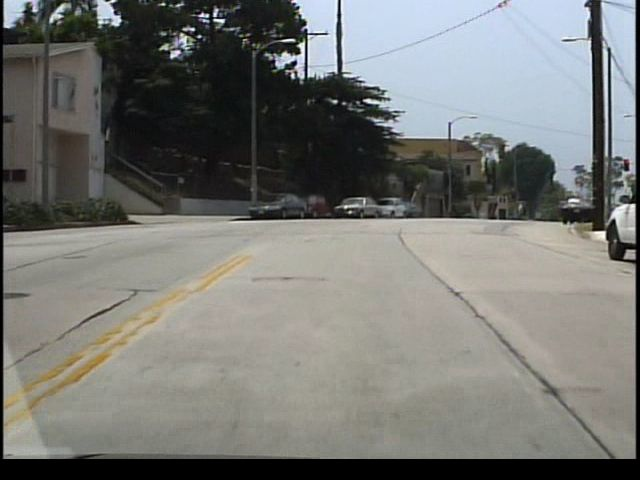person: (518, 201, 526, 222)
